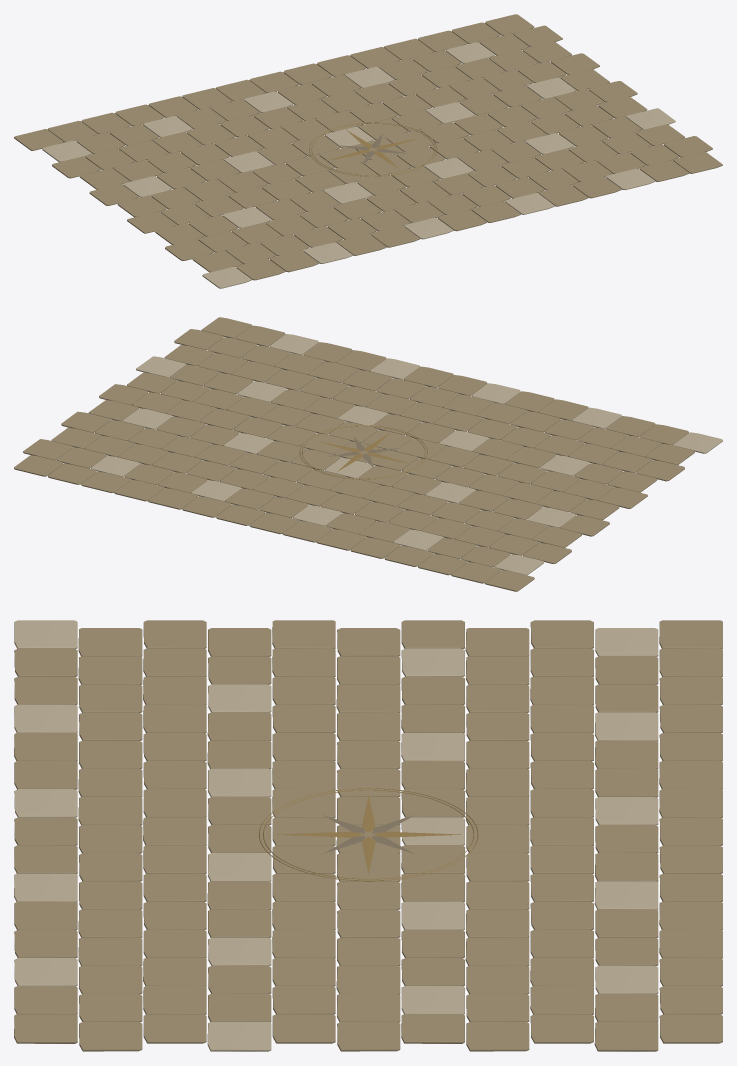
Rendered from harbor_arena_paving_atelier.glb.
The picture shows the model from 3 angles, top to bottom: view 1: azimuth 30°, elevation 25°; view 2: azimuth 150°, elevation 25°; view 3: azimuth 270°, elevation 25°; orthographic projection. The views are drawn at different scales.
Visible parts, largest first — view 1: harbor_arena_paving_atelier__TaggedPainted_harbor_arena_pavi; view 2: harbor_arena_paving_atelier__TaggedPainted_harbor_arena_pavi; view 3: harbor_arena_paving_atelier__TaggedPainted_harbor_arena_pavi.
Boxes of the visible parts, box(x1,y1,x2,y2) form: harbor_arena_paving_atelier__TaggedPainted_harbor_arena_pavi: box(14, 14, 722, 288); harbor_arena_paving_atelier__TaggedPainted_harbor_arena_pavi: box(14, 317, 722, 591); harbor_arena_paving_atelier__TaggedPainted_harbor_arena_pavi: box(14, 620, 722, 1051).
Size of the model in its own units: 29.92 by 0.0915 by 20.87.
